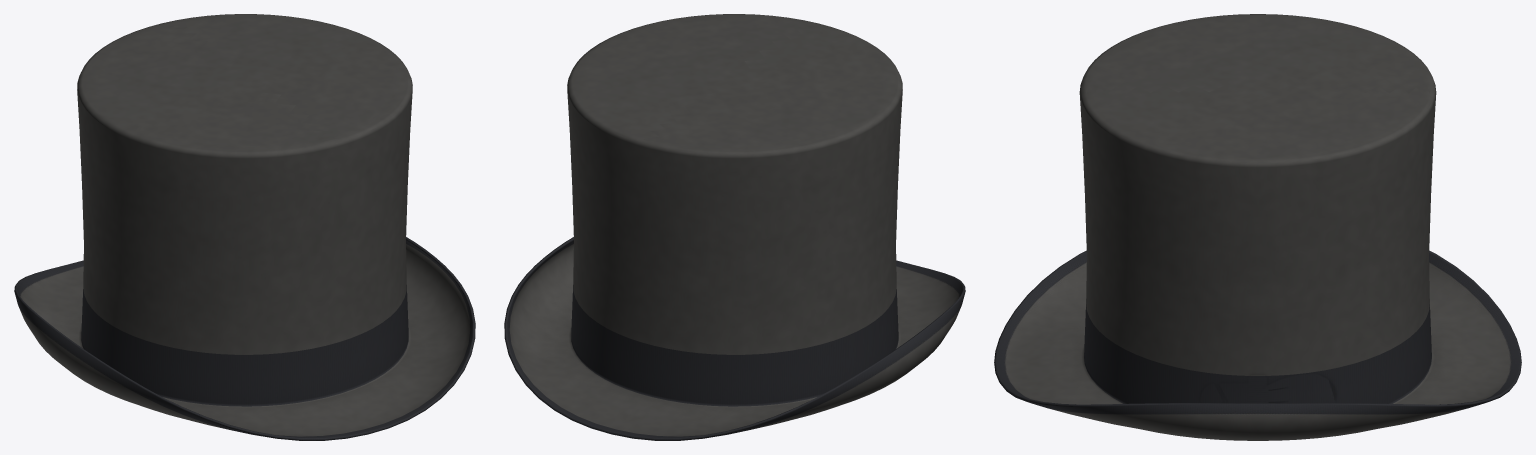
File: top_hat.glb
3 views of the same model, side by side, from view 1: azimuth 30°, elevation 25°; view 2: azimuth 150°, elevation 25°; view 3: azimuth 270°, elevation 25° (orthographic). The views are drawn at different scales.
Parts seen in each view (by area): view 1: top_hat; view 2: top_hat; view 3: top_hat.
Boxes of the visible parts, x1,y1,x2,y2 form: top_hat: (14, 14, 475, 440); top_hat: (504, 14, 965, 440); top_hat: (994, 14, 1521, 440).
Size of the model in its own units: 0.2445 by 0.1659 by 0.2833.
1 material, 1 textured.
